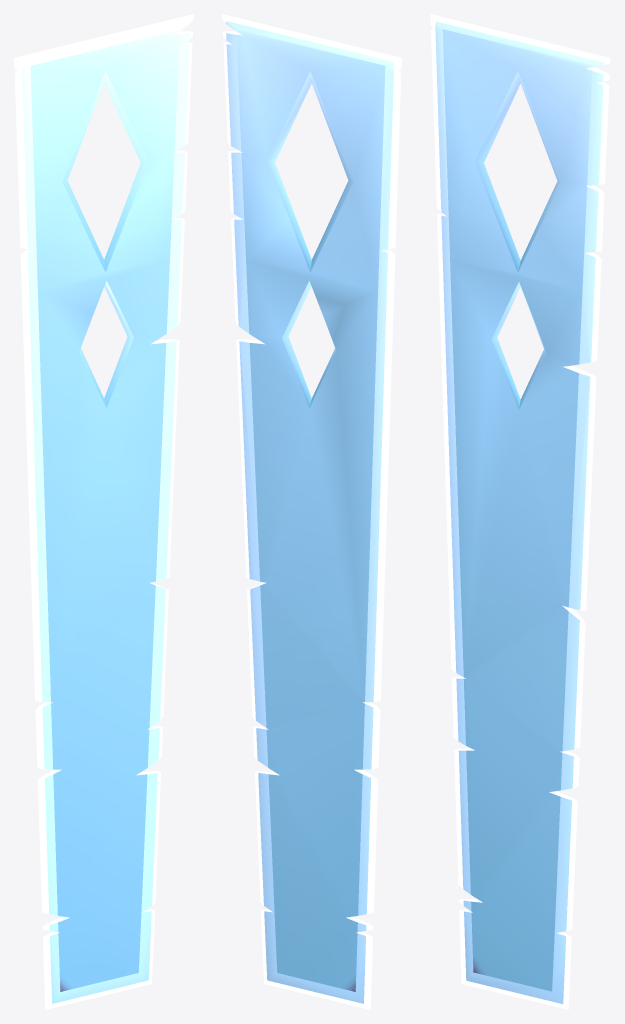
The model's file is steel_blade_scratched_060.glb.
3 renders of one model, left to right at view 1: azimuth 30°, elevation 25°; view 2: azimuth 150°, elevation 25°; view 3: azimuth 330°, elevation 25°, orthographic.
Visible parts, largest first — view 1: steel_blade_scratched.060; view 2: steel_blade_scratched.060; view 3: steel_blade_scratched.060.
Part boxes in pixels (x1,y1,x2,y2): steel_blade_scratched.060: [14, 14, 193, 1009]; steel_blade_scratched.060: [222, 14, 401, 1009]; steel_blade_scratched.060: [430, 14, 610, 1009].
Bounding box in the file's own units: 2.19 × 11.21 × 0.0882.
Materials: 1 (1 with a texture image).
